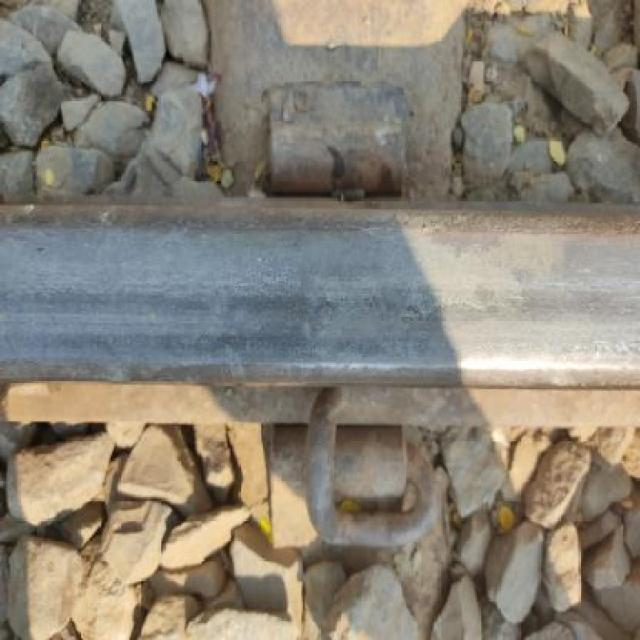non-defective: (4, 165, 640, 522)
